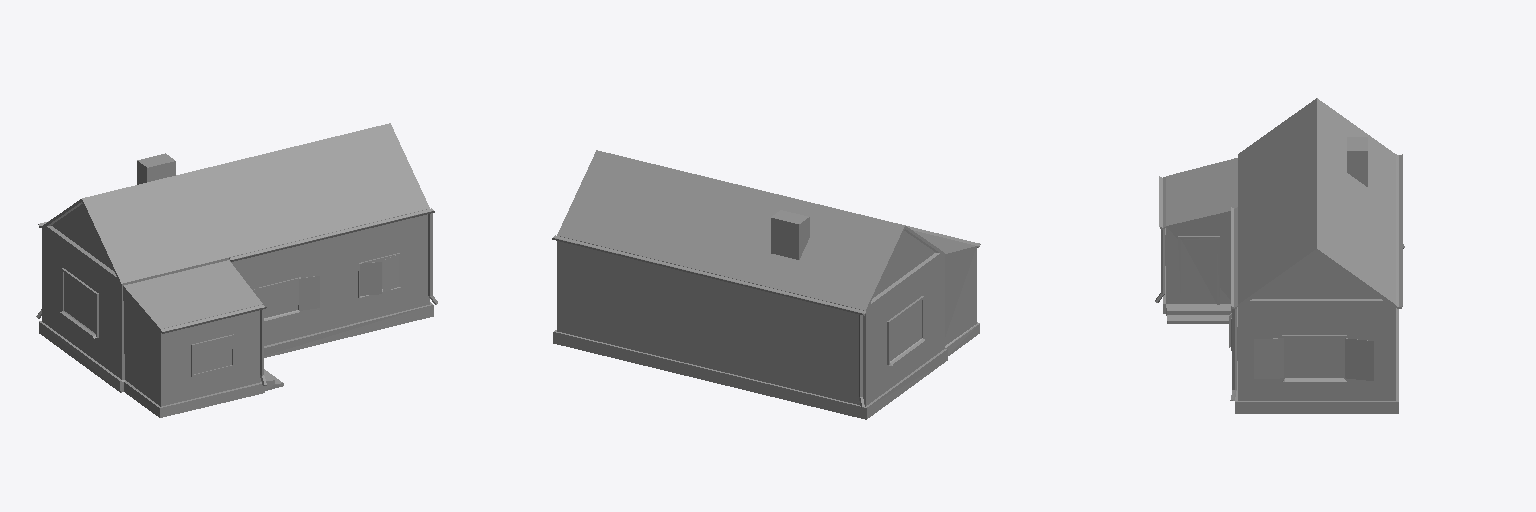
The model's file is buildingV2_4.obj.
3 renders of one model, left to right at view 1: azimuth 30°, elevation 25°; view 2: azimuth 150°, elevation 25°; view 3: azimuth 270°, elevation 25°, orthographic.
Visible parts, largest first — view 1: House_by_C; view 2: House_by_C; view 3: House_by_C.
Part boxes in pixels (x1,y1,x2,y2): House_by_C: (36, 123, 437, 417); House_by_C: (552, 150, 980, 419); House_by_C: (1155, 98, 1404, 413).
Bounding box in the file's own units: 9.38 × 4.57 × 6.31.